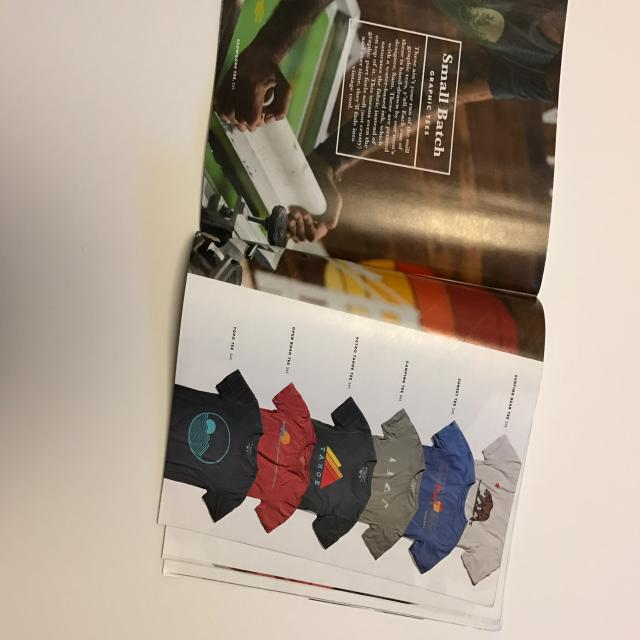paper: (154, 0, 569, 632)
